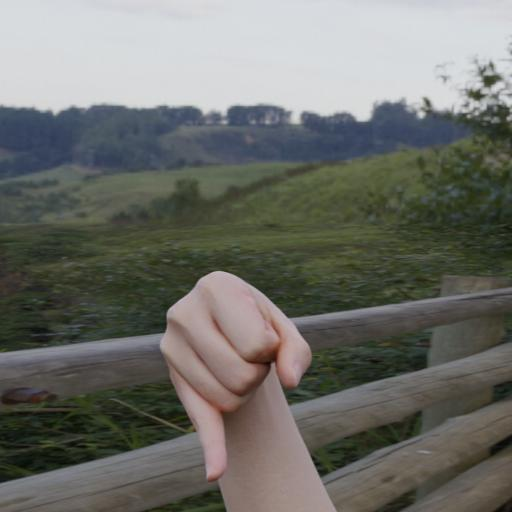J: (149, 258, 321, 488)
